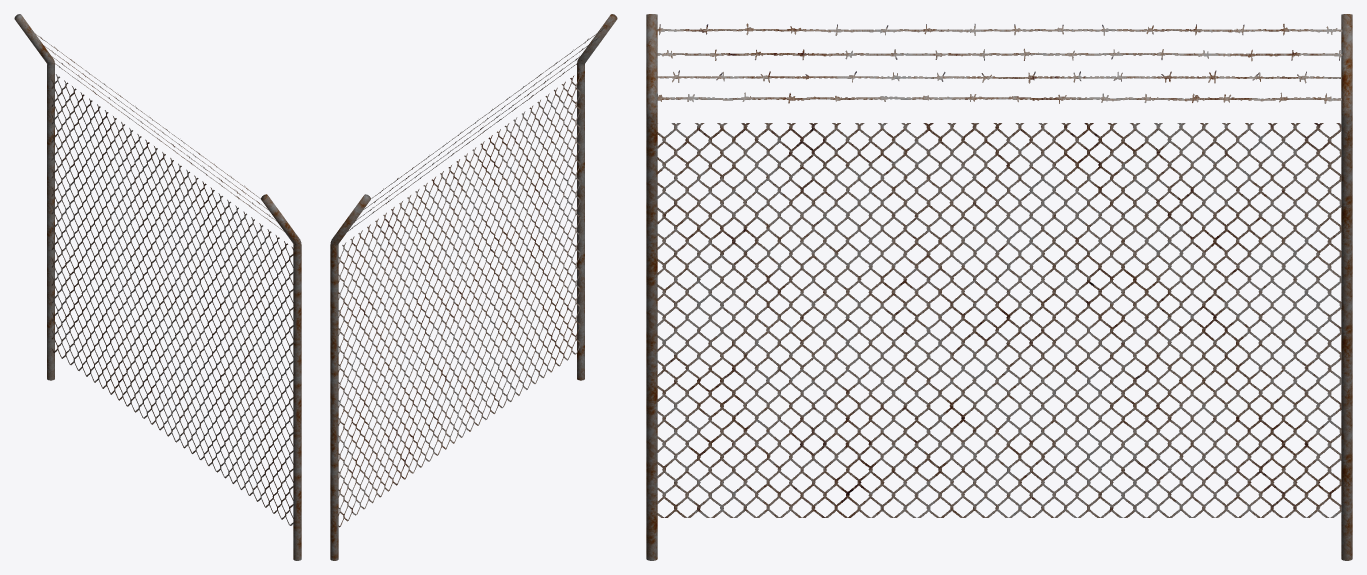
Rendered from fence-set.glb.
The picture shows the model from 3 angles, left to right: view 1: azimuth 30°, elevation 25°; view 2: azimuth 150°, elevation 25°; view 3: azimuth 270°, elevation 25°; orthographic projection. The views are drawn at different scales.
Parts seen in each view (by area): view 1: Cube.002_0; view 2: Cube.002_0; view 3: Cube.002_0.
Boxes of the visible parts, bbox=[...] form: Cube.002_0: bbox=[14, 14, 301, 560]; Cube.002_0: bbox=[330, 14, 617, 560]; Cube.002_0: bbox=[646, 14, 1352, 560].
Bounding box in the file's own units: 0.7653 × 6.9 × 8.43.
1 material, 1 textured.
